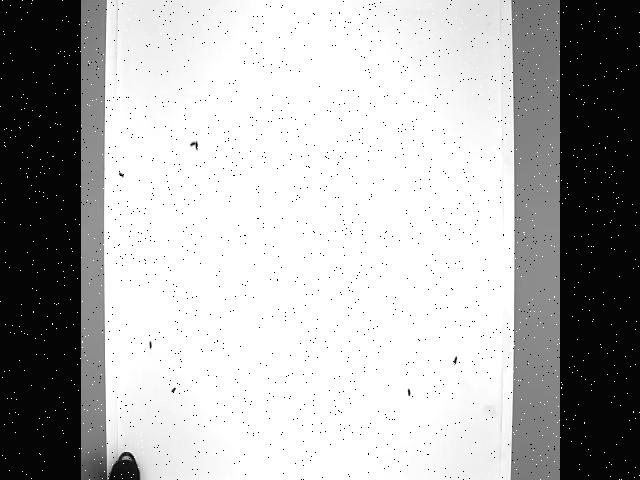Tikus: (103, 443, 143, 480)
